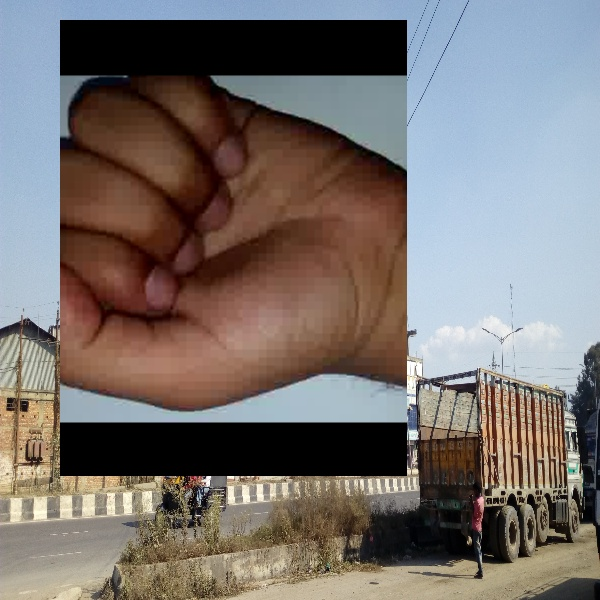A: (60, 20, 407, 476)
